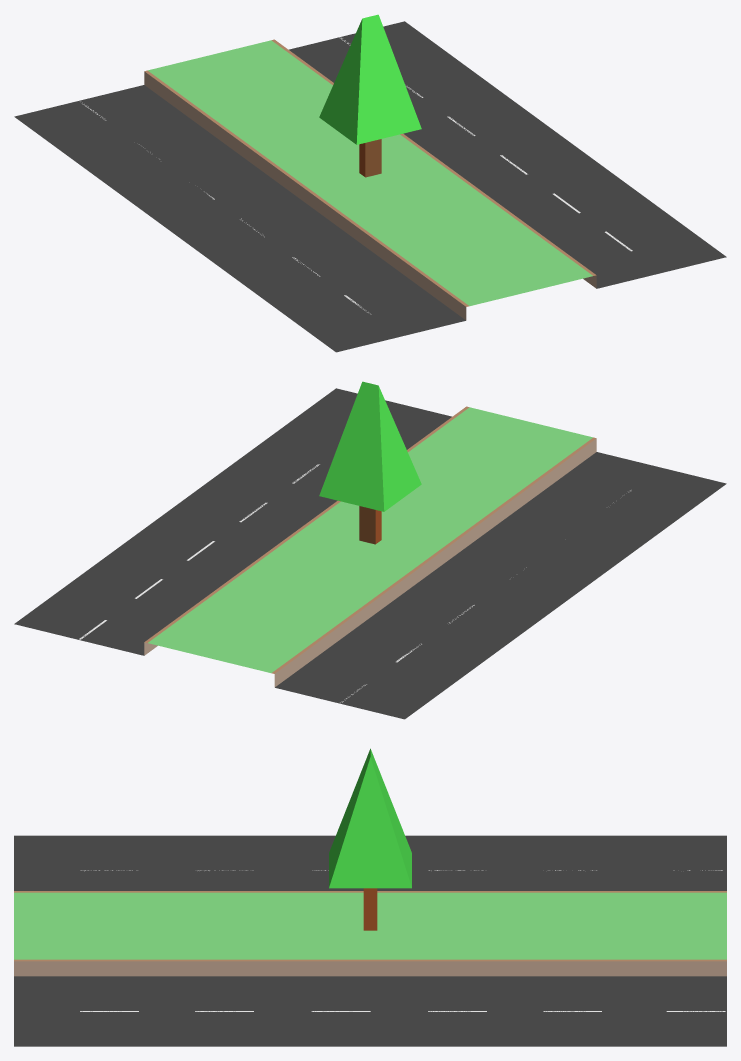
The model's file is wroa.obj.
3 renders of one model, top to bottom at view 1: azimuth 30°, elevation 25°; view 2: azimuth 150°, elevation 25°; view 3: azimuth 270°, elevation 25°, orthographic. The views are drawn at different scales.
Bounding box in the file's own units: 720 × 300 × 1028.
